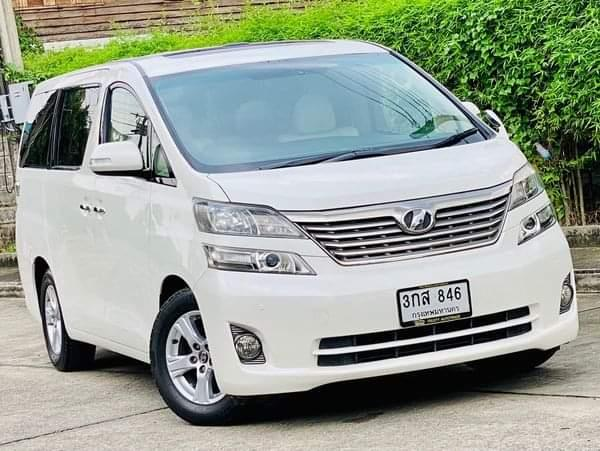license-plate: (395, 276, 474, 329)
